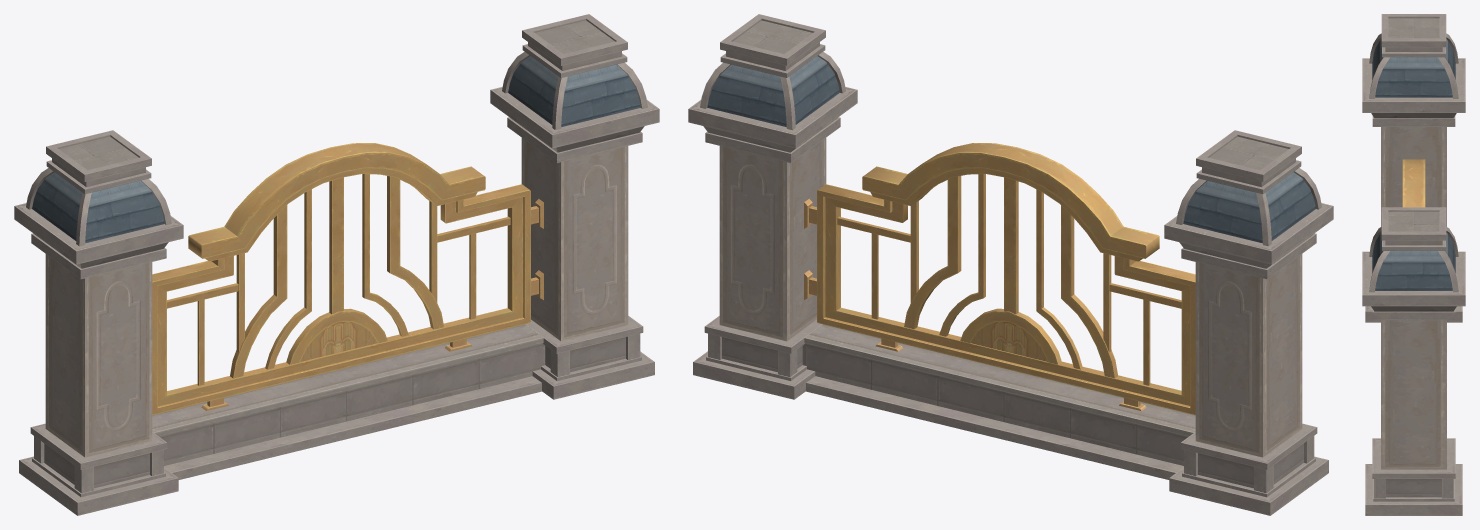
The model's file is Homeworld_Exterior_Fd_Build_House_05_Lod0.fbx.
The picture shows the model from 3 angles, left to right: view 1: azimuth 30°, elevation 25°; view 2: azimuth 150°, elevation 25°; view 3: azimuth 270°, elevation 25°; orthographic projection. The views are drawn at different scales.
Parts seen in each view (by area): view 1: Homeworld_Exterior_Fd_Build_House_05_Lod0; view 2: Homeworld_Exterior_Fd_Build_House_05_Lod0; view 3: Homeworld_Exterior_Fd_Build_House_05_Lod0.
Boxes of the visible parts, x1,y1,x2,y2 form: Homeworld_Exterior_Fd_Build_House_05_Lod0: [14, 14, 659, 515]; Homeworld_Exterior_Fd_Build_House_05_Lod0: [688, 14, 1333, 515]; Homeworld_Exterior_Fd_Build_House_05_Lod0: [1362, 14, 1465, 515].
Size of what is drawn, in the model's own units: 9.73 by 5.26 by 1.79.
